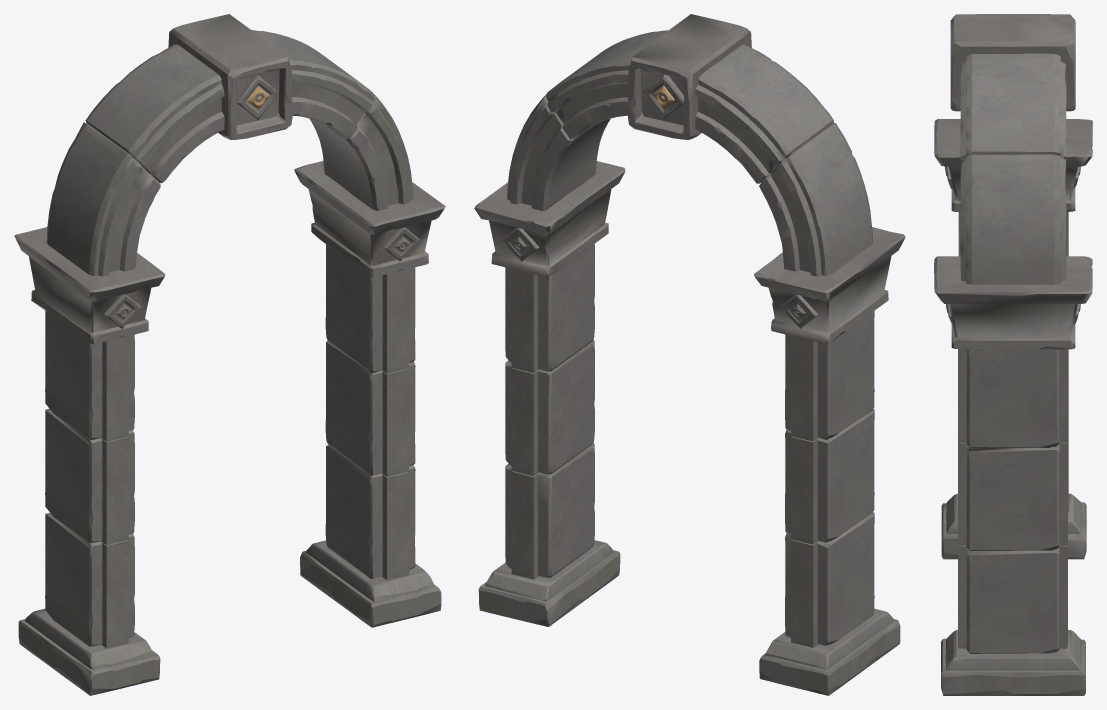
The model's file is CenterDoor.fbx.
3 views of the same model, side by side, from view 1: azimuth 30°, elevation 25°; view 2: azimuth 150°, elevation 25°; view 3: azimuth 270°, elevation 25° (orthographic).
Visible parts, largest first — view 1: Eltheca_CenterDoor_AA; view 2: Eltheca_CenterDoor_AA; view 3: Eltheca_CenterDoor_AA.
Part boxes in pixels (bbox=[...]): Eltheca_CenterDoor_AA: bbox=[14, 14, 445, 695]; Eltheca_CenterDoor_AA: bbox=[474, 14, 905, 695]; Eltheca_CenterDoor_AA: bbox=[934, 14, 1092, 695].
Bounding box in the file's own units: 392 × 615 × 152.
4 materials, 4 textured.
